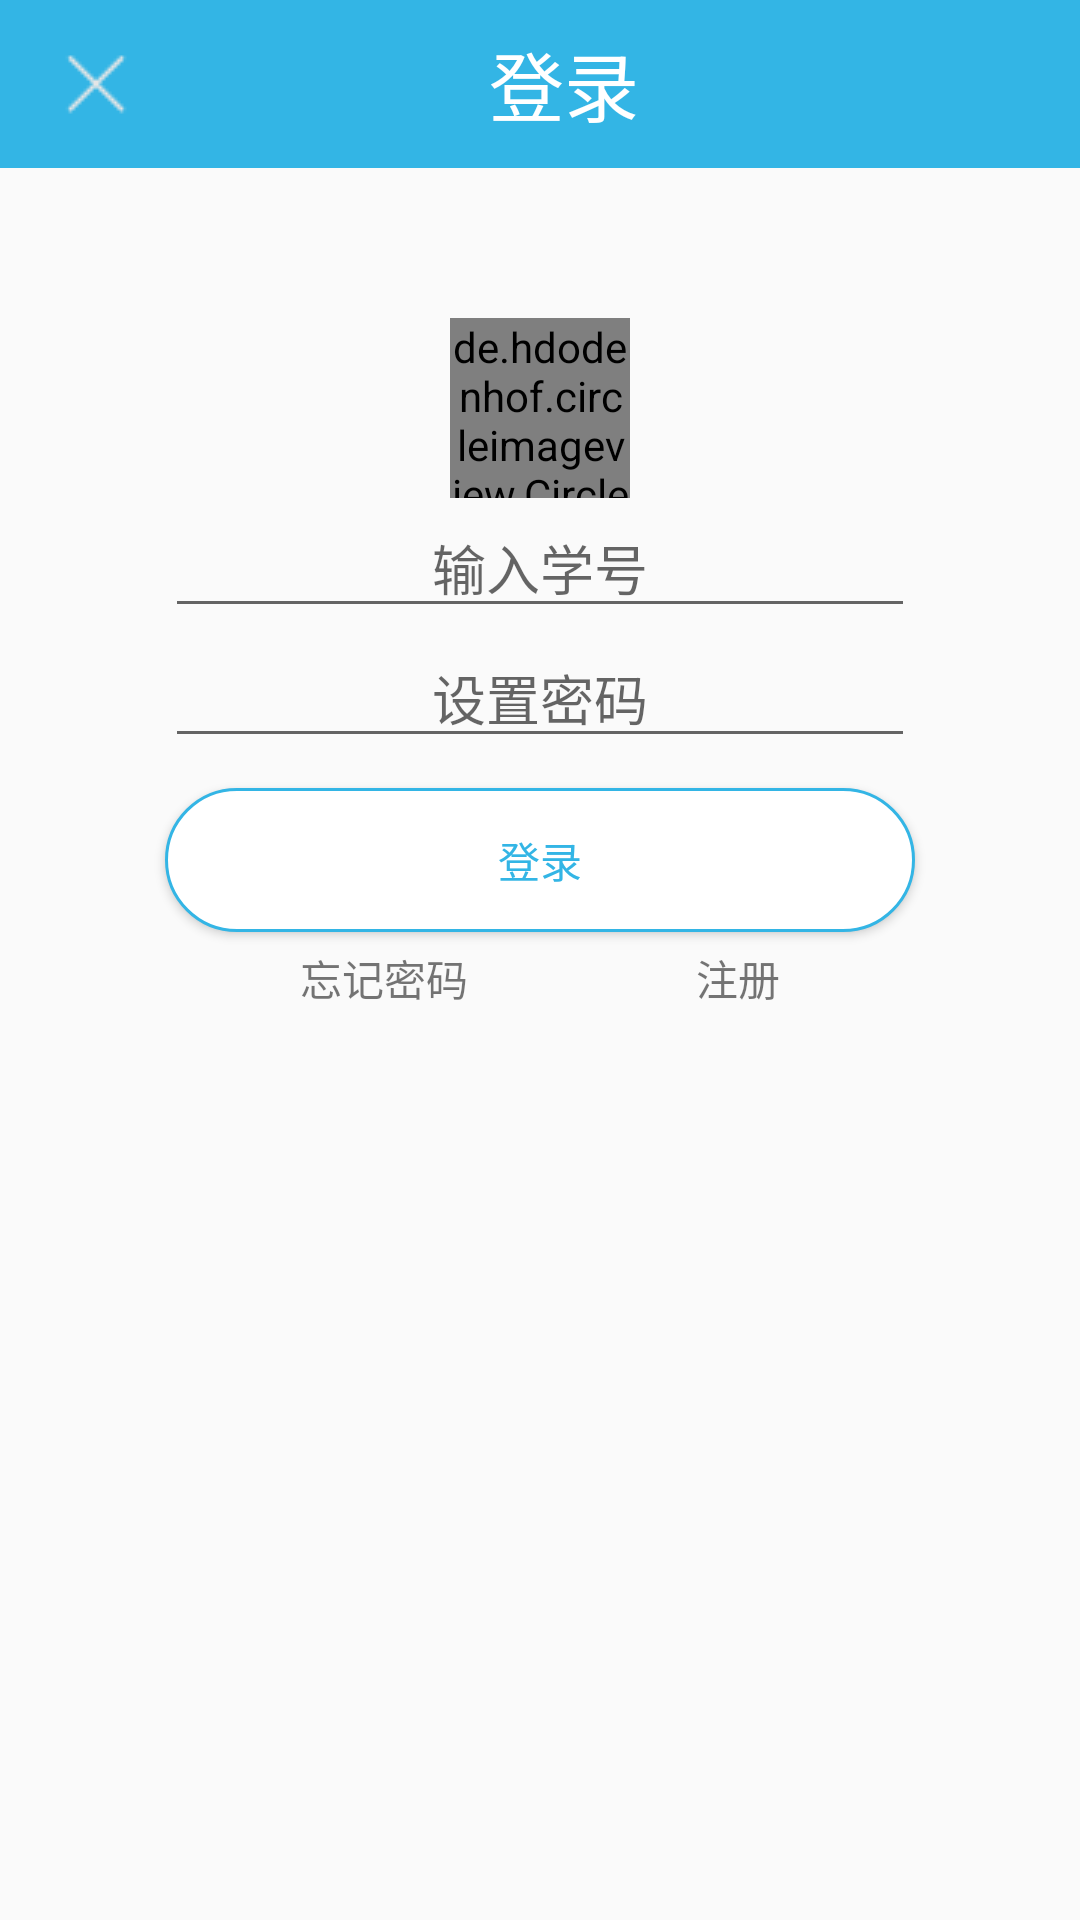

Locate icon controls on the screen. Image size 1080x1920, boxes as {"x1": x1, "y1": y1, "x2": x2, "y2": y2}.
exit: {"x1": 68, "y1": 55, "x2": 125, "y2": 114}
